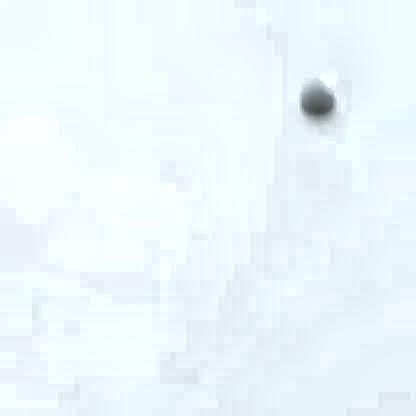golfball: (297, 73, 330, 115)
